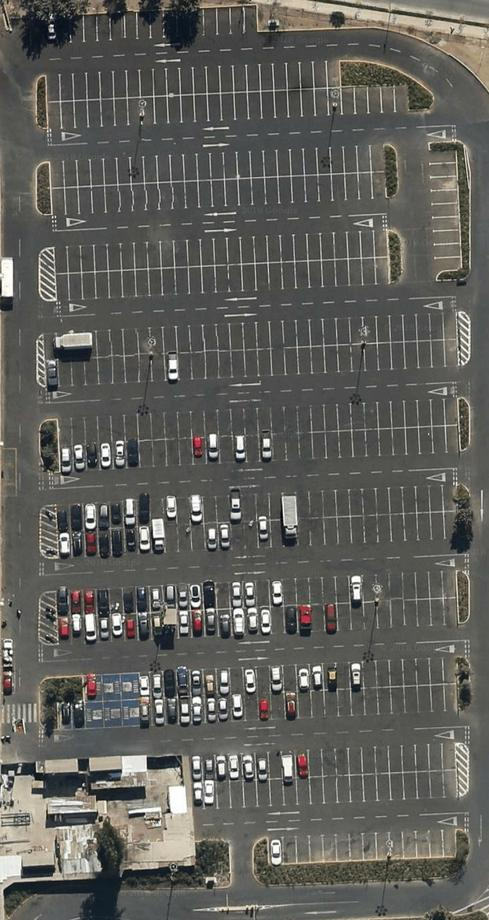parkingspot: (45, 338, 460, 389), (56, 395, 460, 447), (58, 424, 462, 475), (55, 568, 458, 619), (56, 596, 459, 647), (57, 682, 459, 732), (81, 654, 459, 704), (95, 310, 459, 359), (45, 83, 412, 131), (54, 255, 391, 303), (48, 143, 387, 190), (49, 170, 388, 217), (53, 228, 389, 275), (43, 58, 343, 104), (188, 741, 457, 784), (191, 769, 459, 811), (43, 3, 260, 50), (54, 491, 285, 533), (57, 519, 285, 560), (267, 827, 457, 865), (296, 510, 460, 547), (295, 482, 458, 519), (426, 147, 463, 273)
